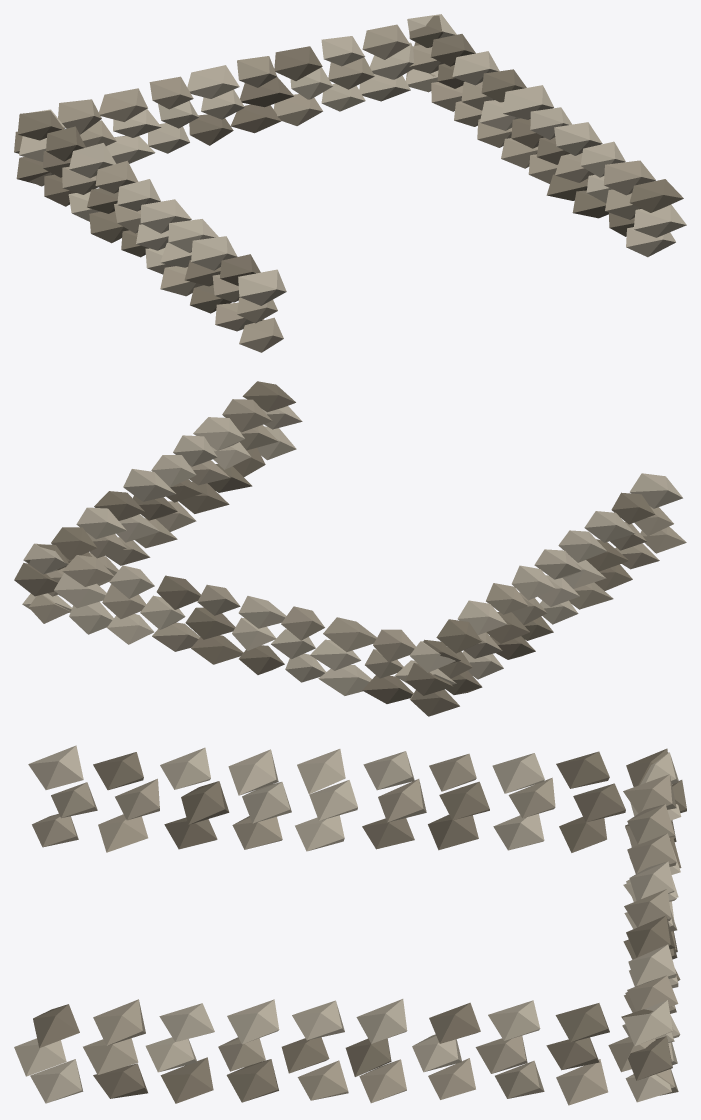
Rendered from penwall.glb.
3 views of the same model, one above another, from view 1: azimuth 30°, elevation 25°; view 2: azimuth 150°, elevation 25°; view 3: azimuth 270°, elevation 25° (orthographic). The views are drawn at different scales.
Visible parts, largest first — view 1: base; view 2: base; view 3: base.
Boxes of the visible parts, x1=… form: base: x1=14, y1=14, x2=686, y2=352; base: x1=14, y1=381, x2=686, y2=716; base: x1=14, y1=745, x2=686, y2=1105.
Size of the model in its own units: 2.09 by 0.3306 by 2.04.
